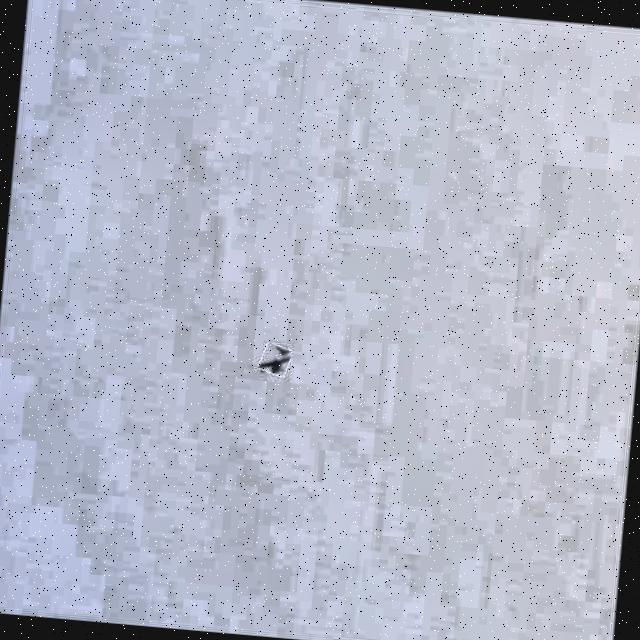iha: (247, 331, 304, 387)
